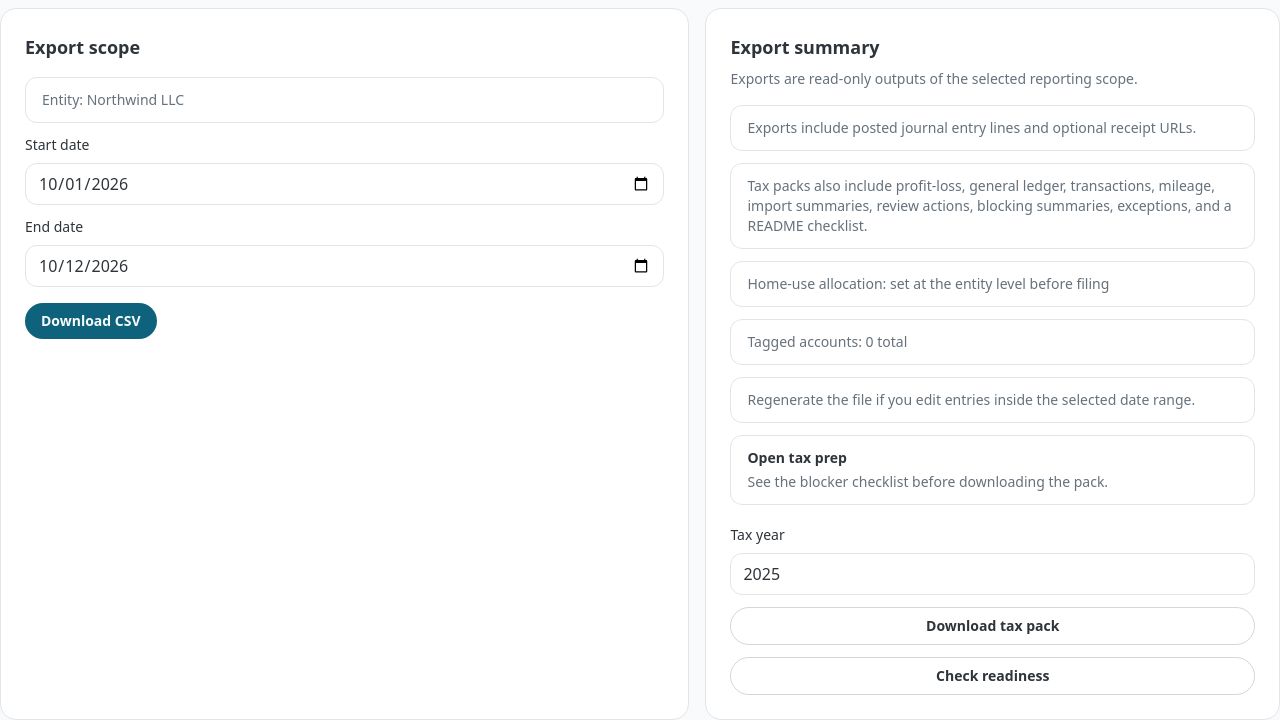
Test: Exports page › validates tax pack readiness before downloading
(page scrolled)
What coordinates should you click on to do the following:
click the button "Download tax pack"
I would click on:
 (993, 626)
Its box is [730,607,1255,645].
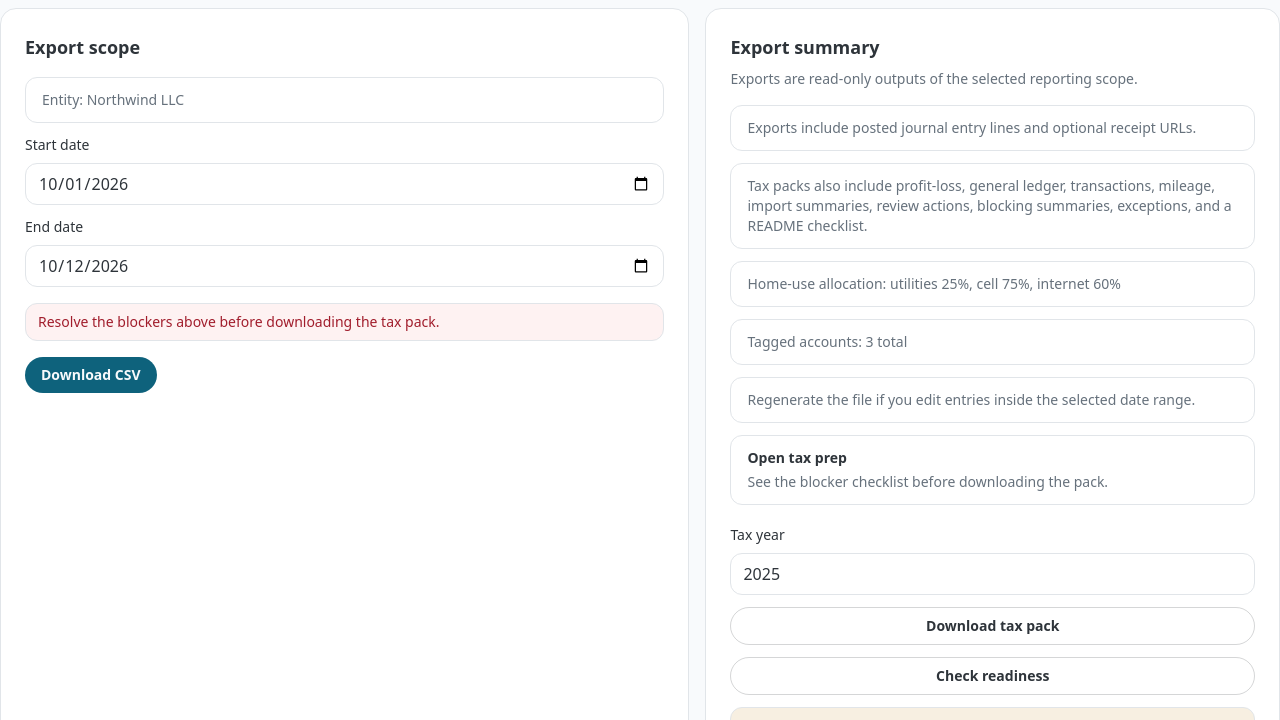
Expected: the text "Resolve the blockers above before downloading the tax pack." is shown, [25,303,664,341]
